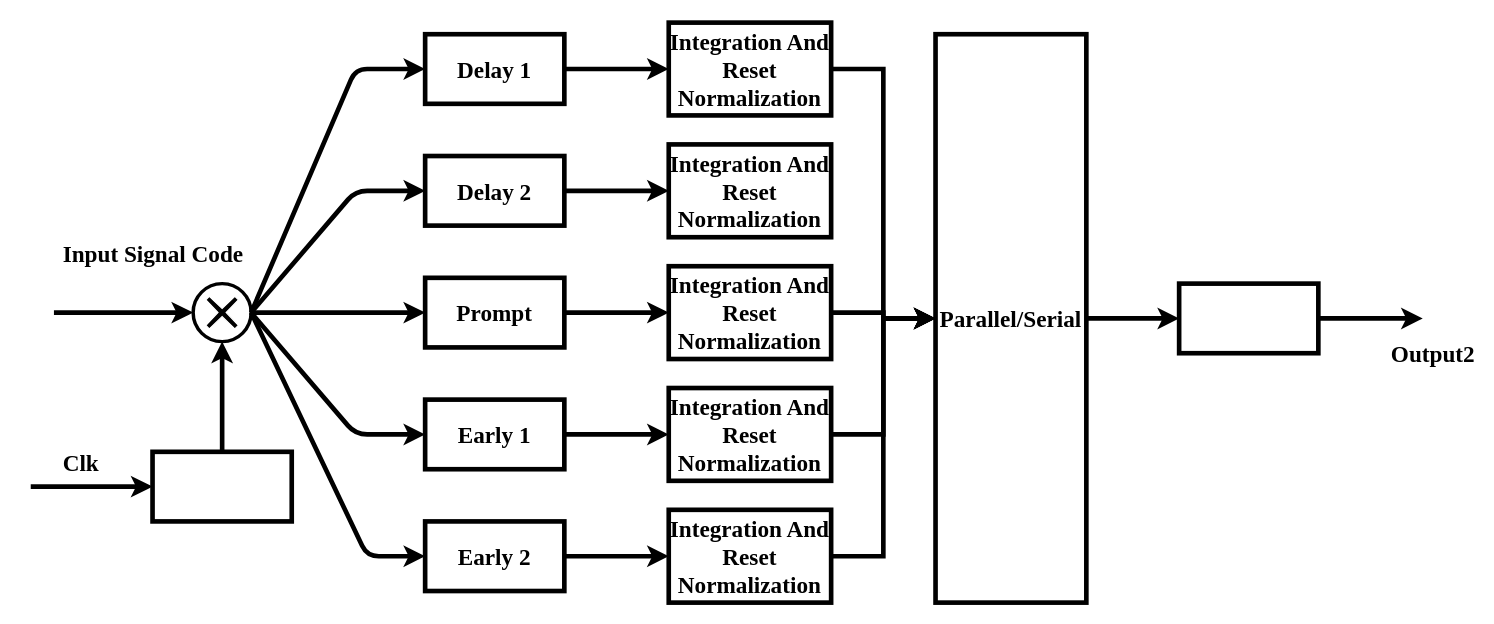
The diagram is 1494 pixels wide and 624 high, and some of its shapes have lost their labels. The centre of each missing label's shape, as x and y in pixels:
Calculation: [1248,318]
Extended Code Table: [221,486]
